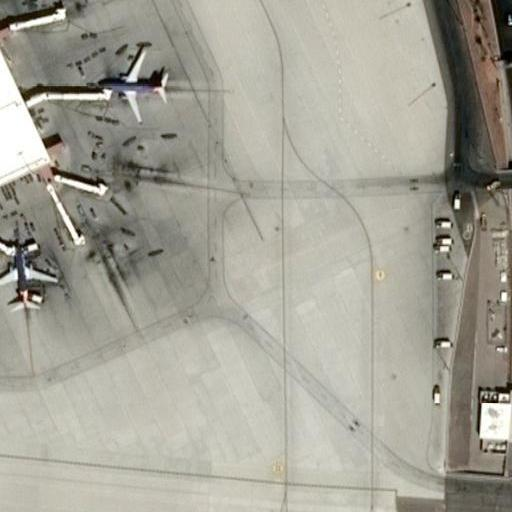Aircraft: (94, 45, 172, 120), (0, 242, 60, 310)
